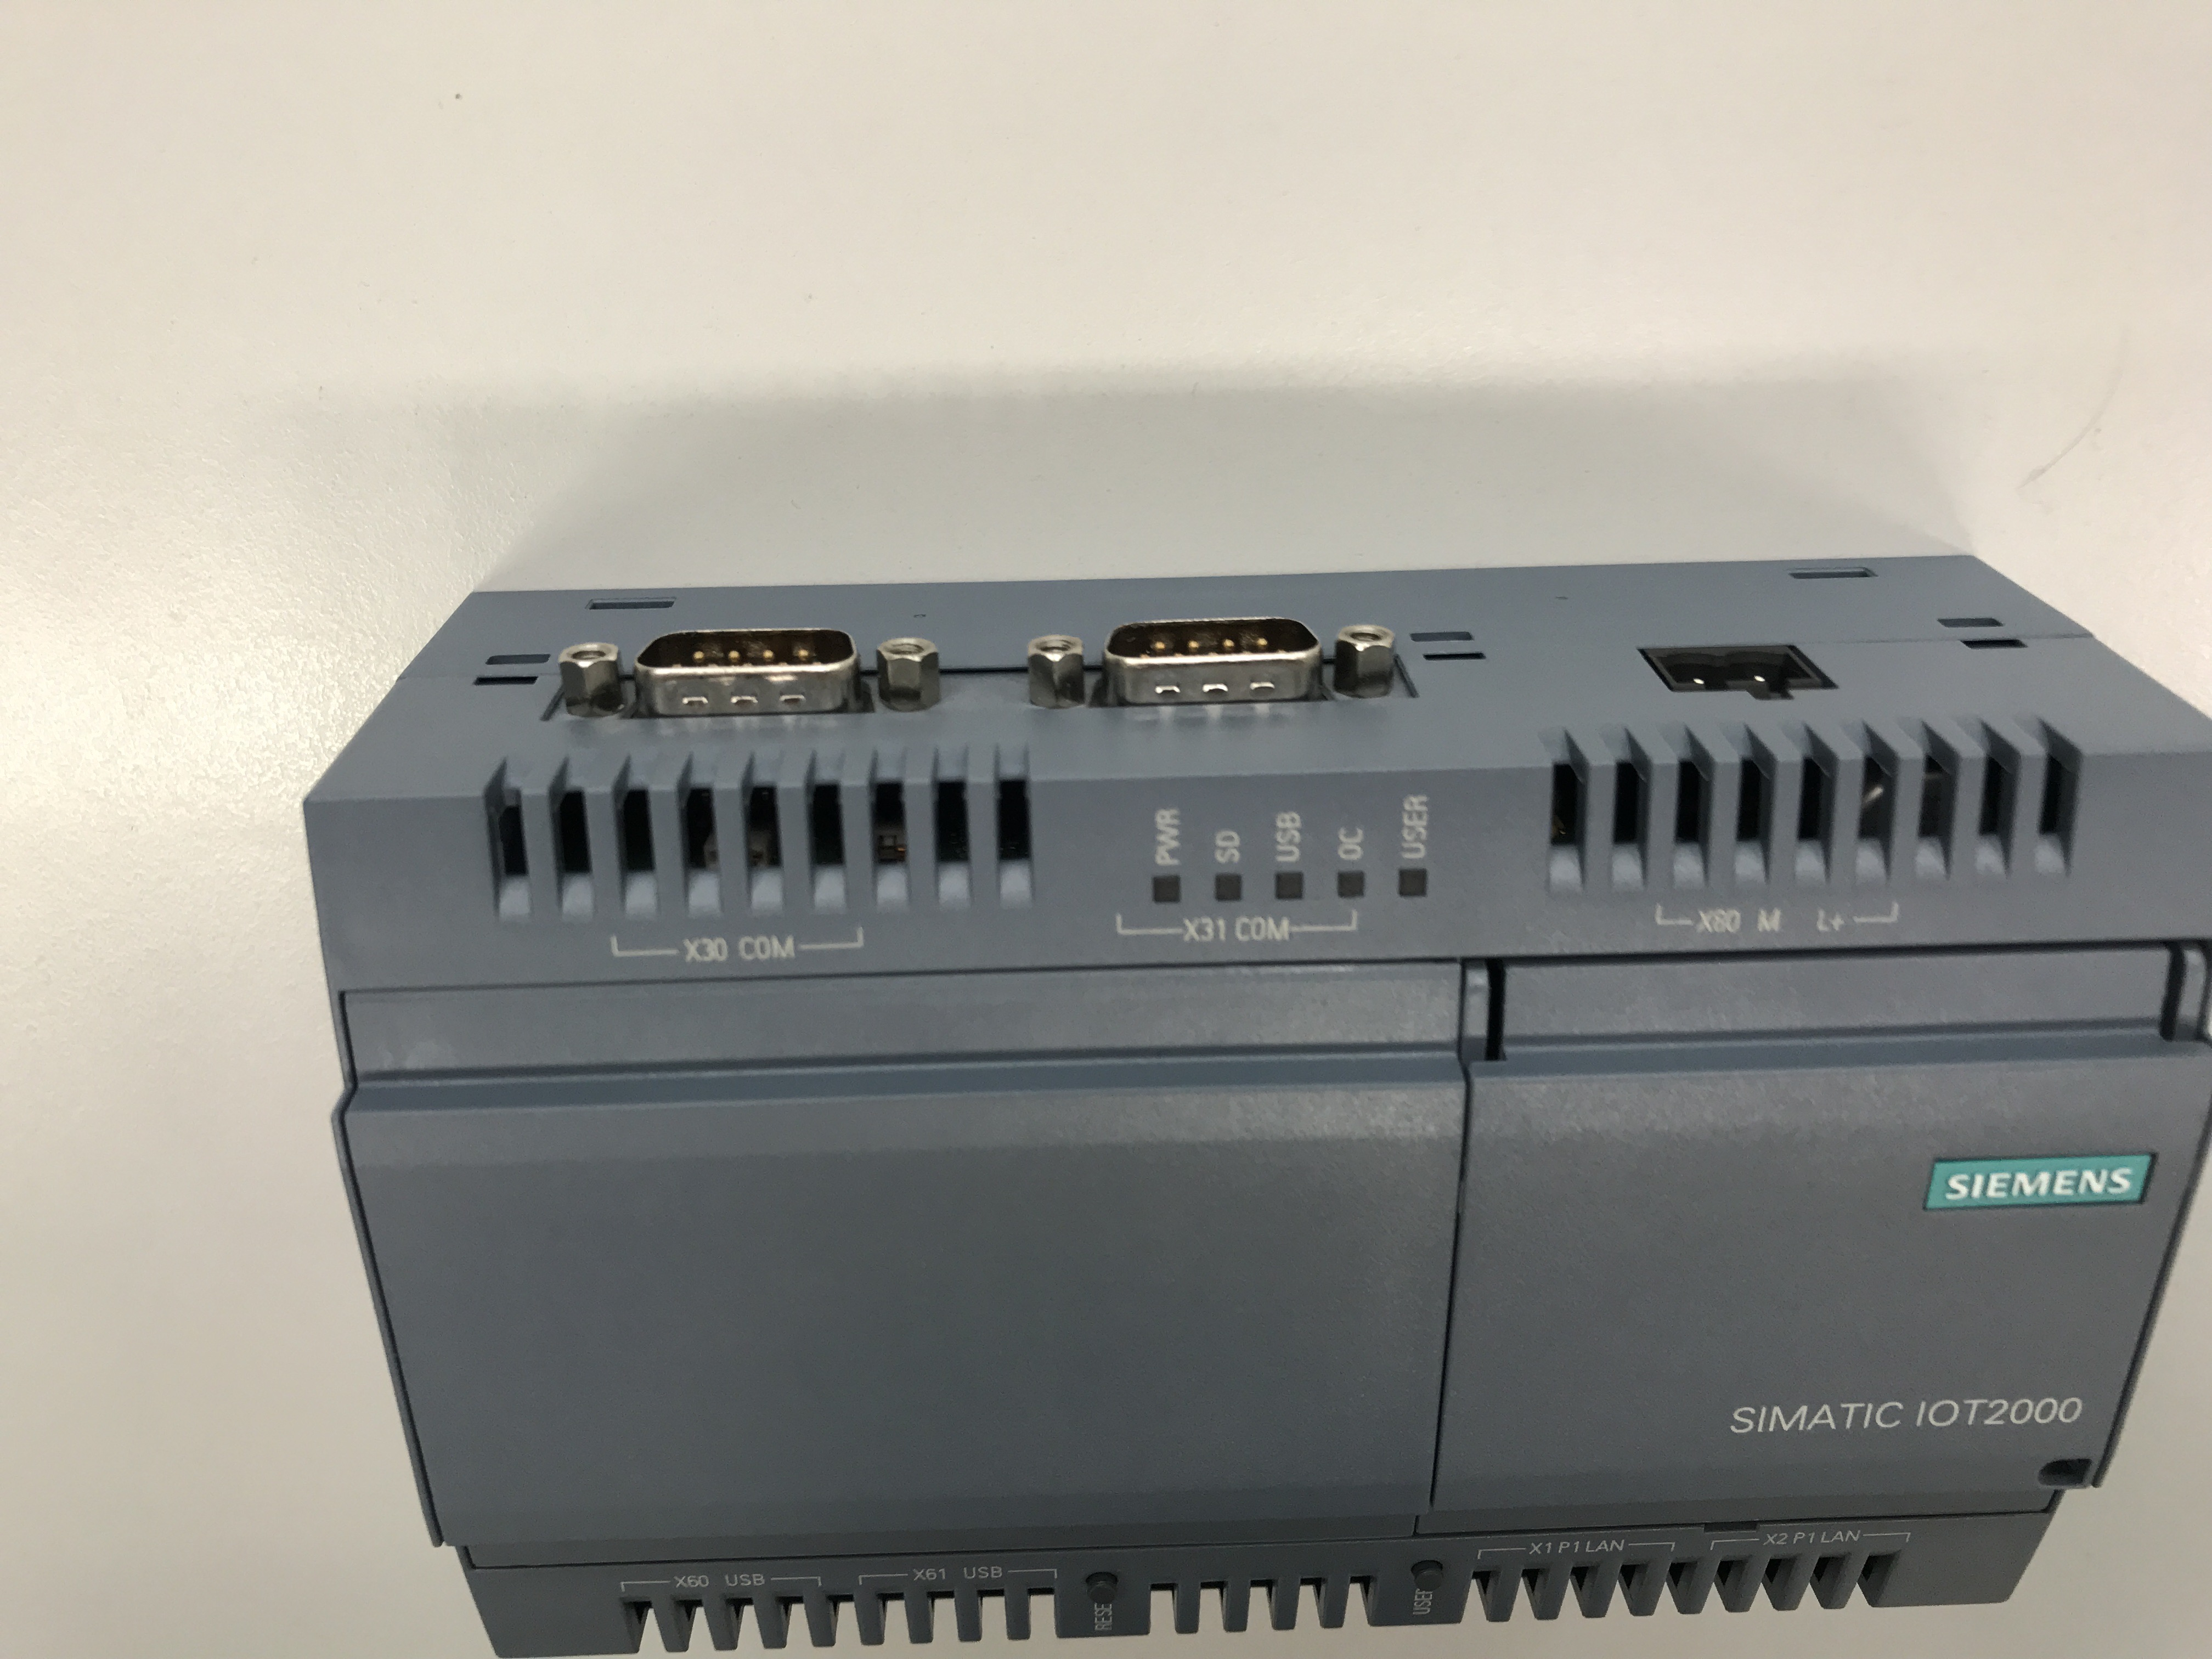device: (300, 551, 2212, 1659)
